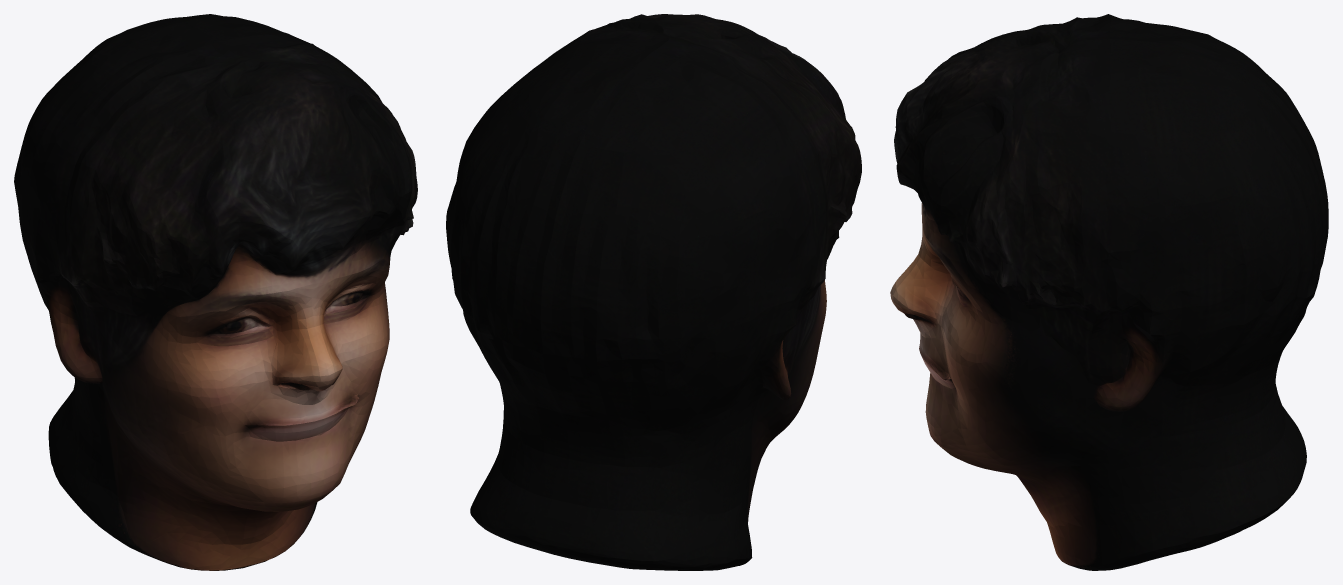
The model's file is krish_head.glb.
3 renders of one model, left to right at view 1: azimuth 30°, elevation 25°; view 2: azimuth 150°, elevation 25°; view 3: azimuth 270°, elevation 25°, orthographic.
Visible parts, largest first — view 1: geometry_0; view 2: geometry_0; view 3: geometry_0.
Part boxes in pixels (x1,y1,x2,y2): geometry_0: [14, 14, 417, 570]; geometry_0: [446, 14, 861, 570]; geometry_0: [890, 14, 1328, 570].
Size of the model in its own units: 0.4618 by 0.6951 by 0.5468.
1 material, 1 textured.
